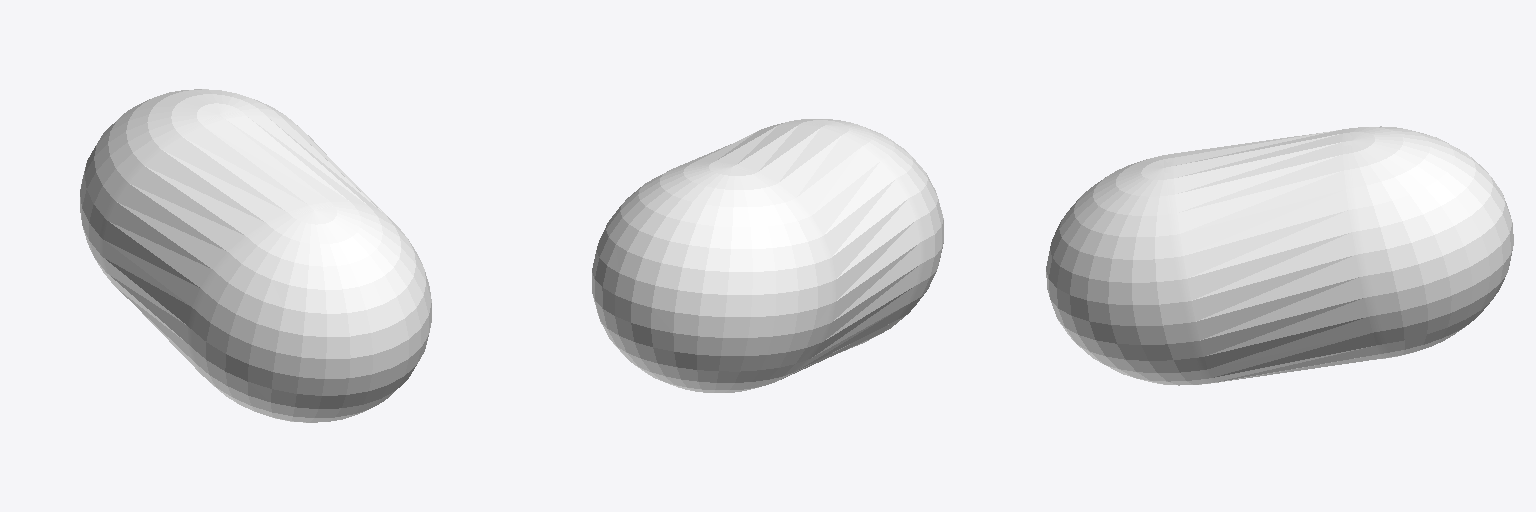
3 renders of one model, left to right at view 1: azimuth 30°, elevation 25°; view 2: azimuth 150°, elevation 25°; view 3: azimuth 270°, elevation 25°, orthographic.
Visible parts, largest first — view 1: Object015; view 2: Object015; view 3: Object015.
Part boxes in pixels (left/top/right/bottom): Object015: left=80, top=89, right=431, bottom=422; Object015: left=592, top=119, right=943, bottom=392; Object015: left=1046, top=126, right=1513, bottom=385.
Size of the model in its own units: 4.52 by 4.57 by 8.31.
Materials: 1 (1 with a texture image).